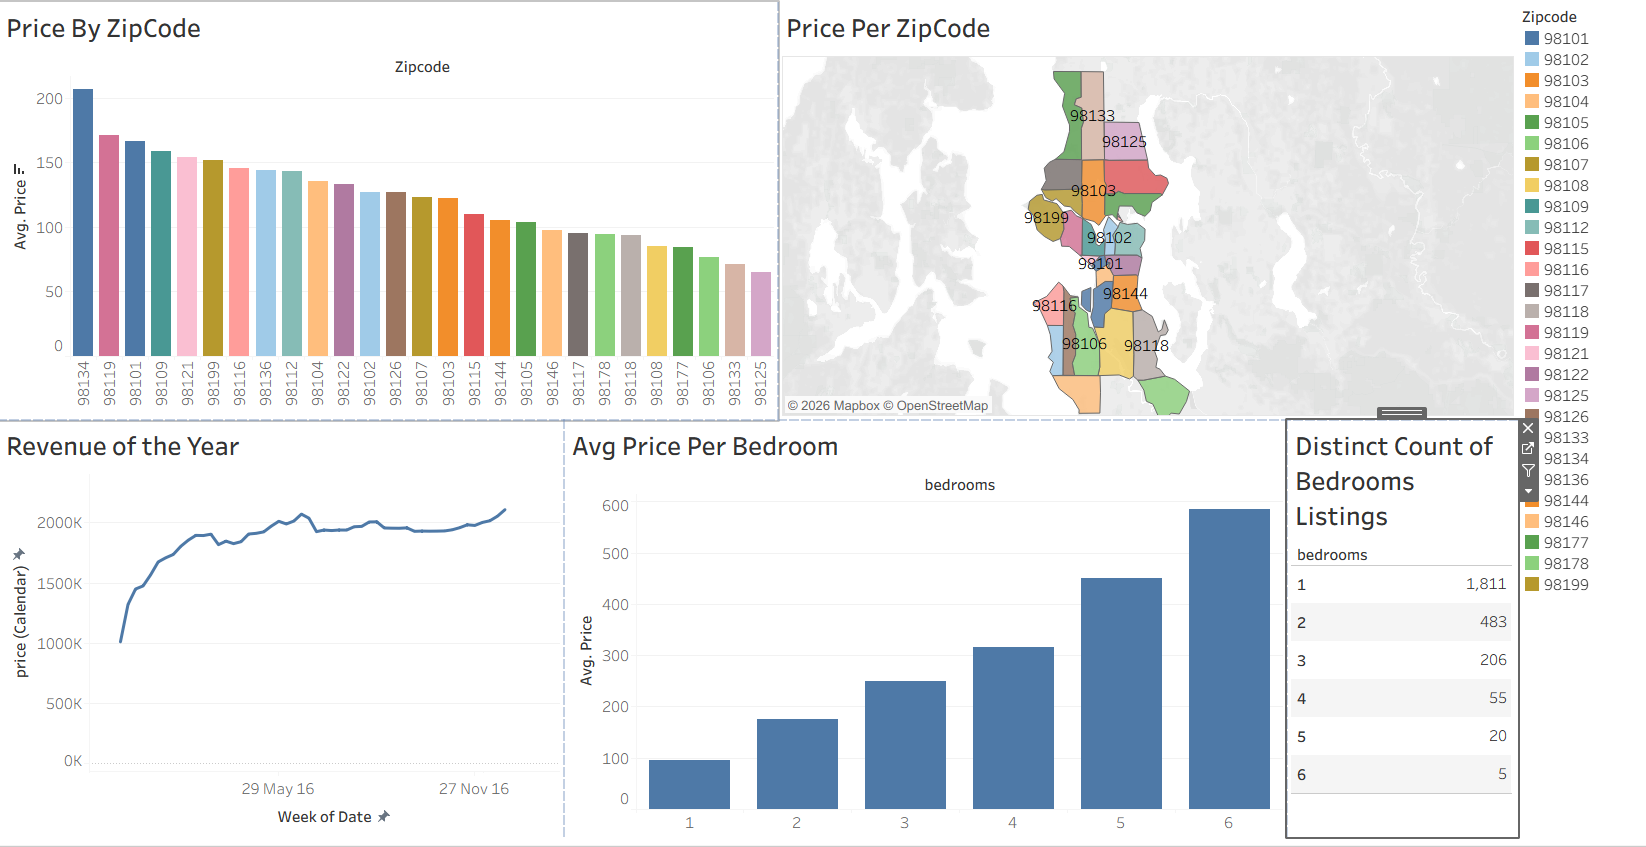

The page's visual inventory and layout, read from the dashboard file:
{"tool":"tableau","page":{"name":"Dashboard 1","canvas":[1000,1000],"units":"permille","ordinal":0},"visuals":[{"type":"worksheet","title":"Sheet 1","mark":"Automatic","rows":["price"],"cols":["zipcode"],"box":[4.8,9.4,470.7,490.6]},{"type":"worksheet","title":"Sheet 2","mark":"Multipolygon","box":[475.6,9.4,446.6,490.6]},{"type":"legend","title":"Sheet 1","param":"[federated.18m785r1p07cnr0zjc0vy094n2va].[none:zipcode:ok]","box":[922.1,9.4,73,708.6]},{"type":"worksheet","title":"Sheet 3","mark":"Automatic","rows":["price (Calendar)"],"cols":["date"],"box":[4.8,500,341.6,490.6]},{"type":"worksheet","title":"Sheet 4","mark":"Automatic","rows":["price"],"cols":["bedrooms"],"box":[346.4,500,436.3,490.6]},{"type":"worksheet","title":"Sheet 5","mark":"Automatic","rows":["bedrooms"],"box":[782.7,500,139.4,490.6]}]}

Visuals, with their boxes on the dashboard's canvas, which has no fixed pixel size, in thousandths of its width and height (x1, y1, x2, y2). These are canvas units, not pixel positions in the 1646x847 screenshot, which may show the page scaled, cropped or inside an application window:
"Sheet 1" worksheet: region(5, 9, 476, 500)
"Sheet 2" worksheet (Multipolygon marks): region(476, 9, 922, 500)
"Sheet 1" legend: region(922, 9, 995, 718)
"Sheet 3" worksheet: region(5, 500, 346, 991)
"Sheet 4" worksheet: region(346, 500, 783, 991)
"Sheet 5" worksheet: region(783, 500, 922, 991)
